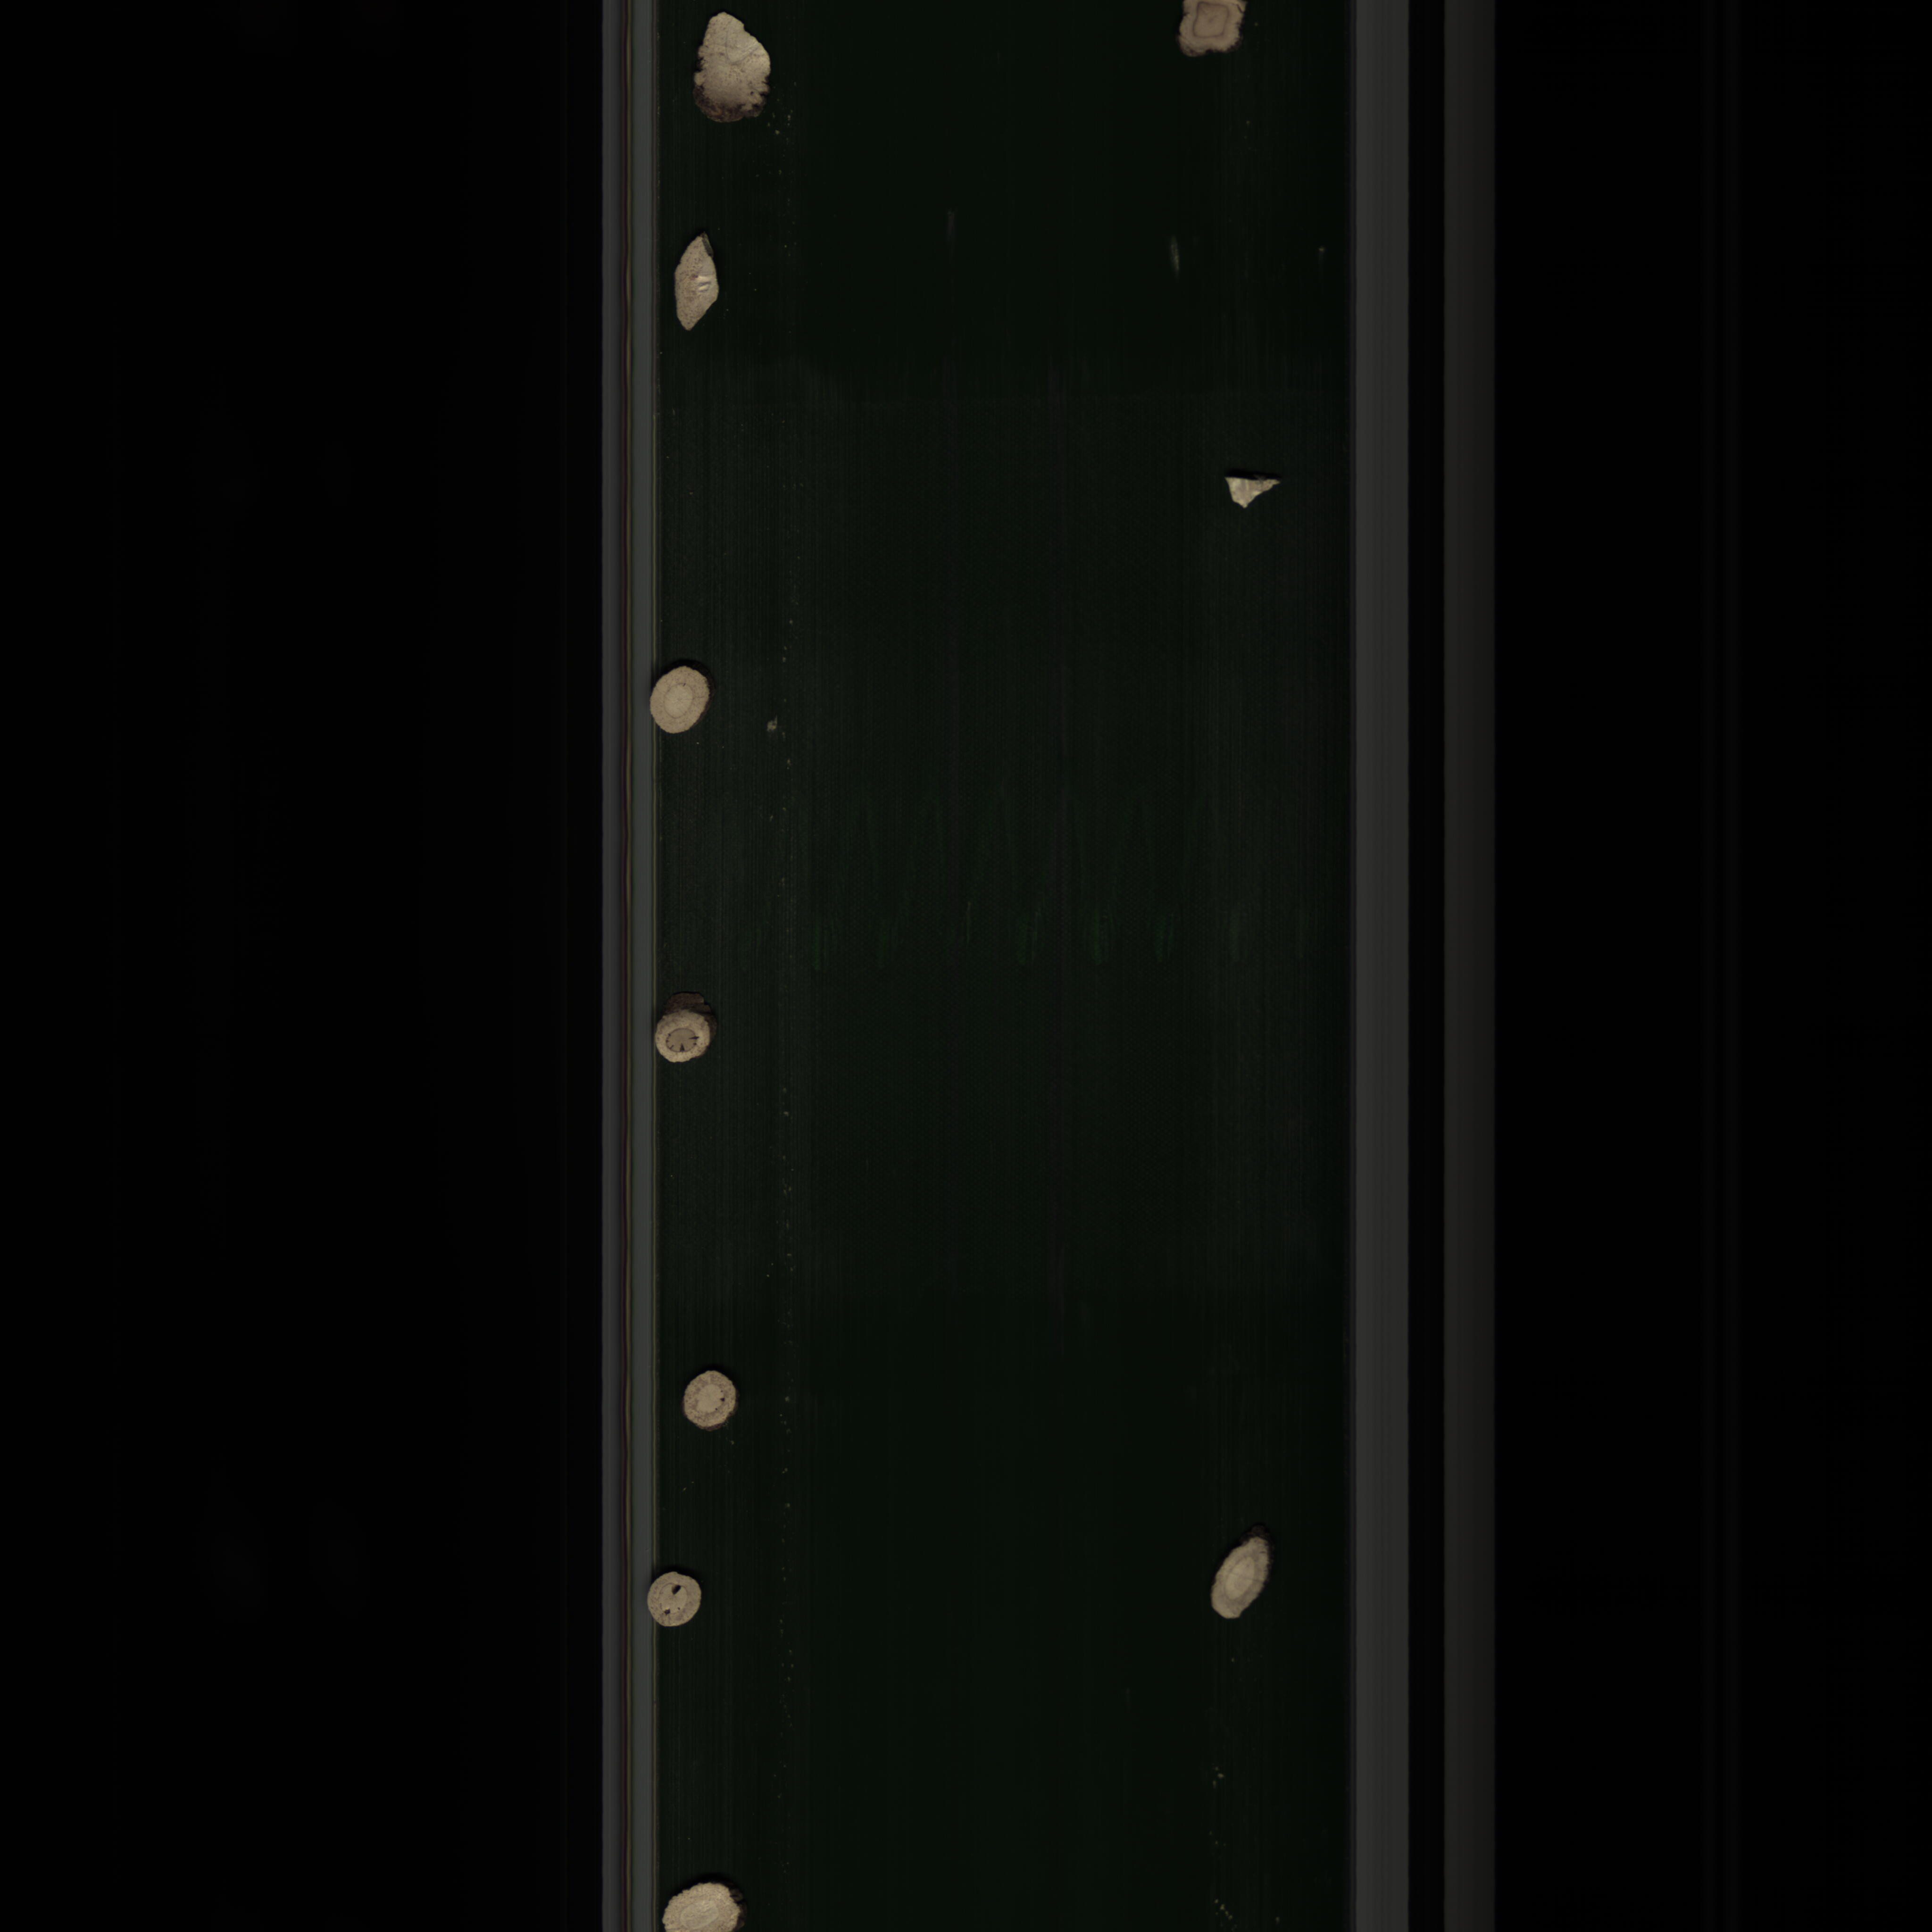bark: (651, 991, 732, 1074), (1215, 471, 1283, 515)
debris: (686, 9, 778, 134), (669, 223, 718, 336)
hole: (640, 1568, 706, 1638), (679, 1369, 740, 1438)
